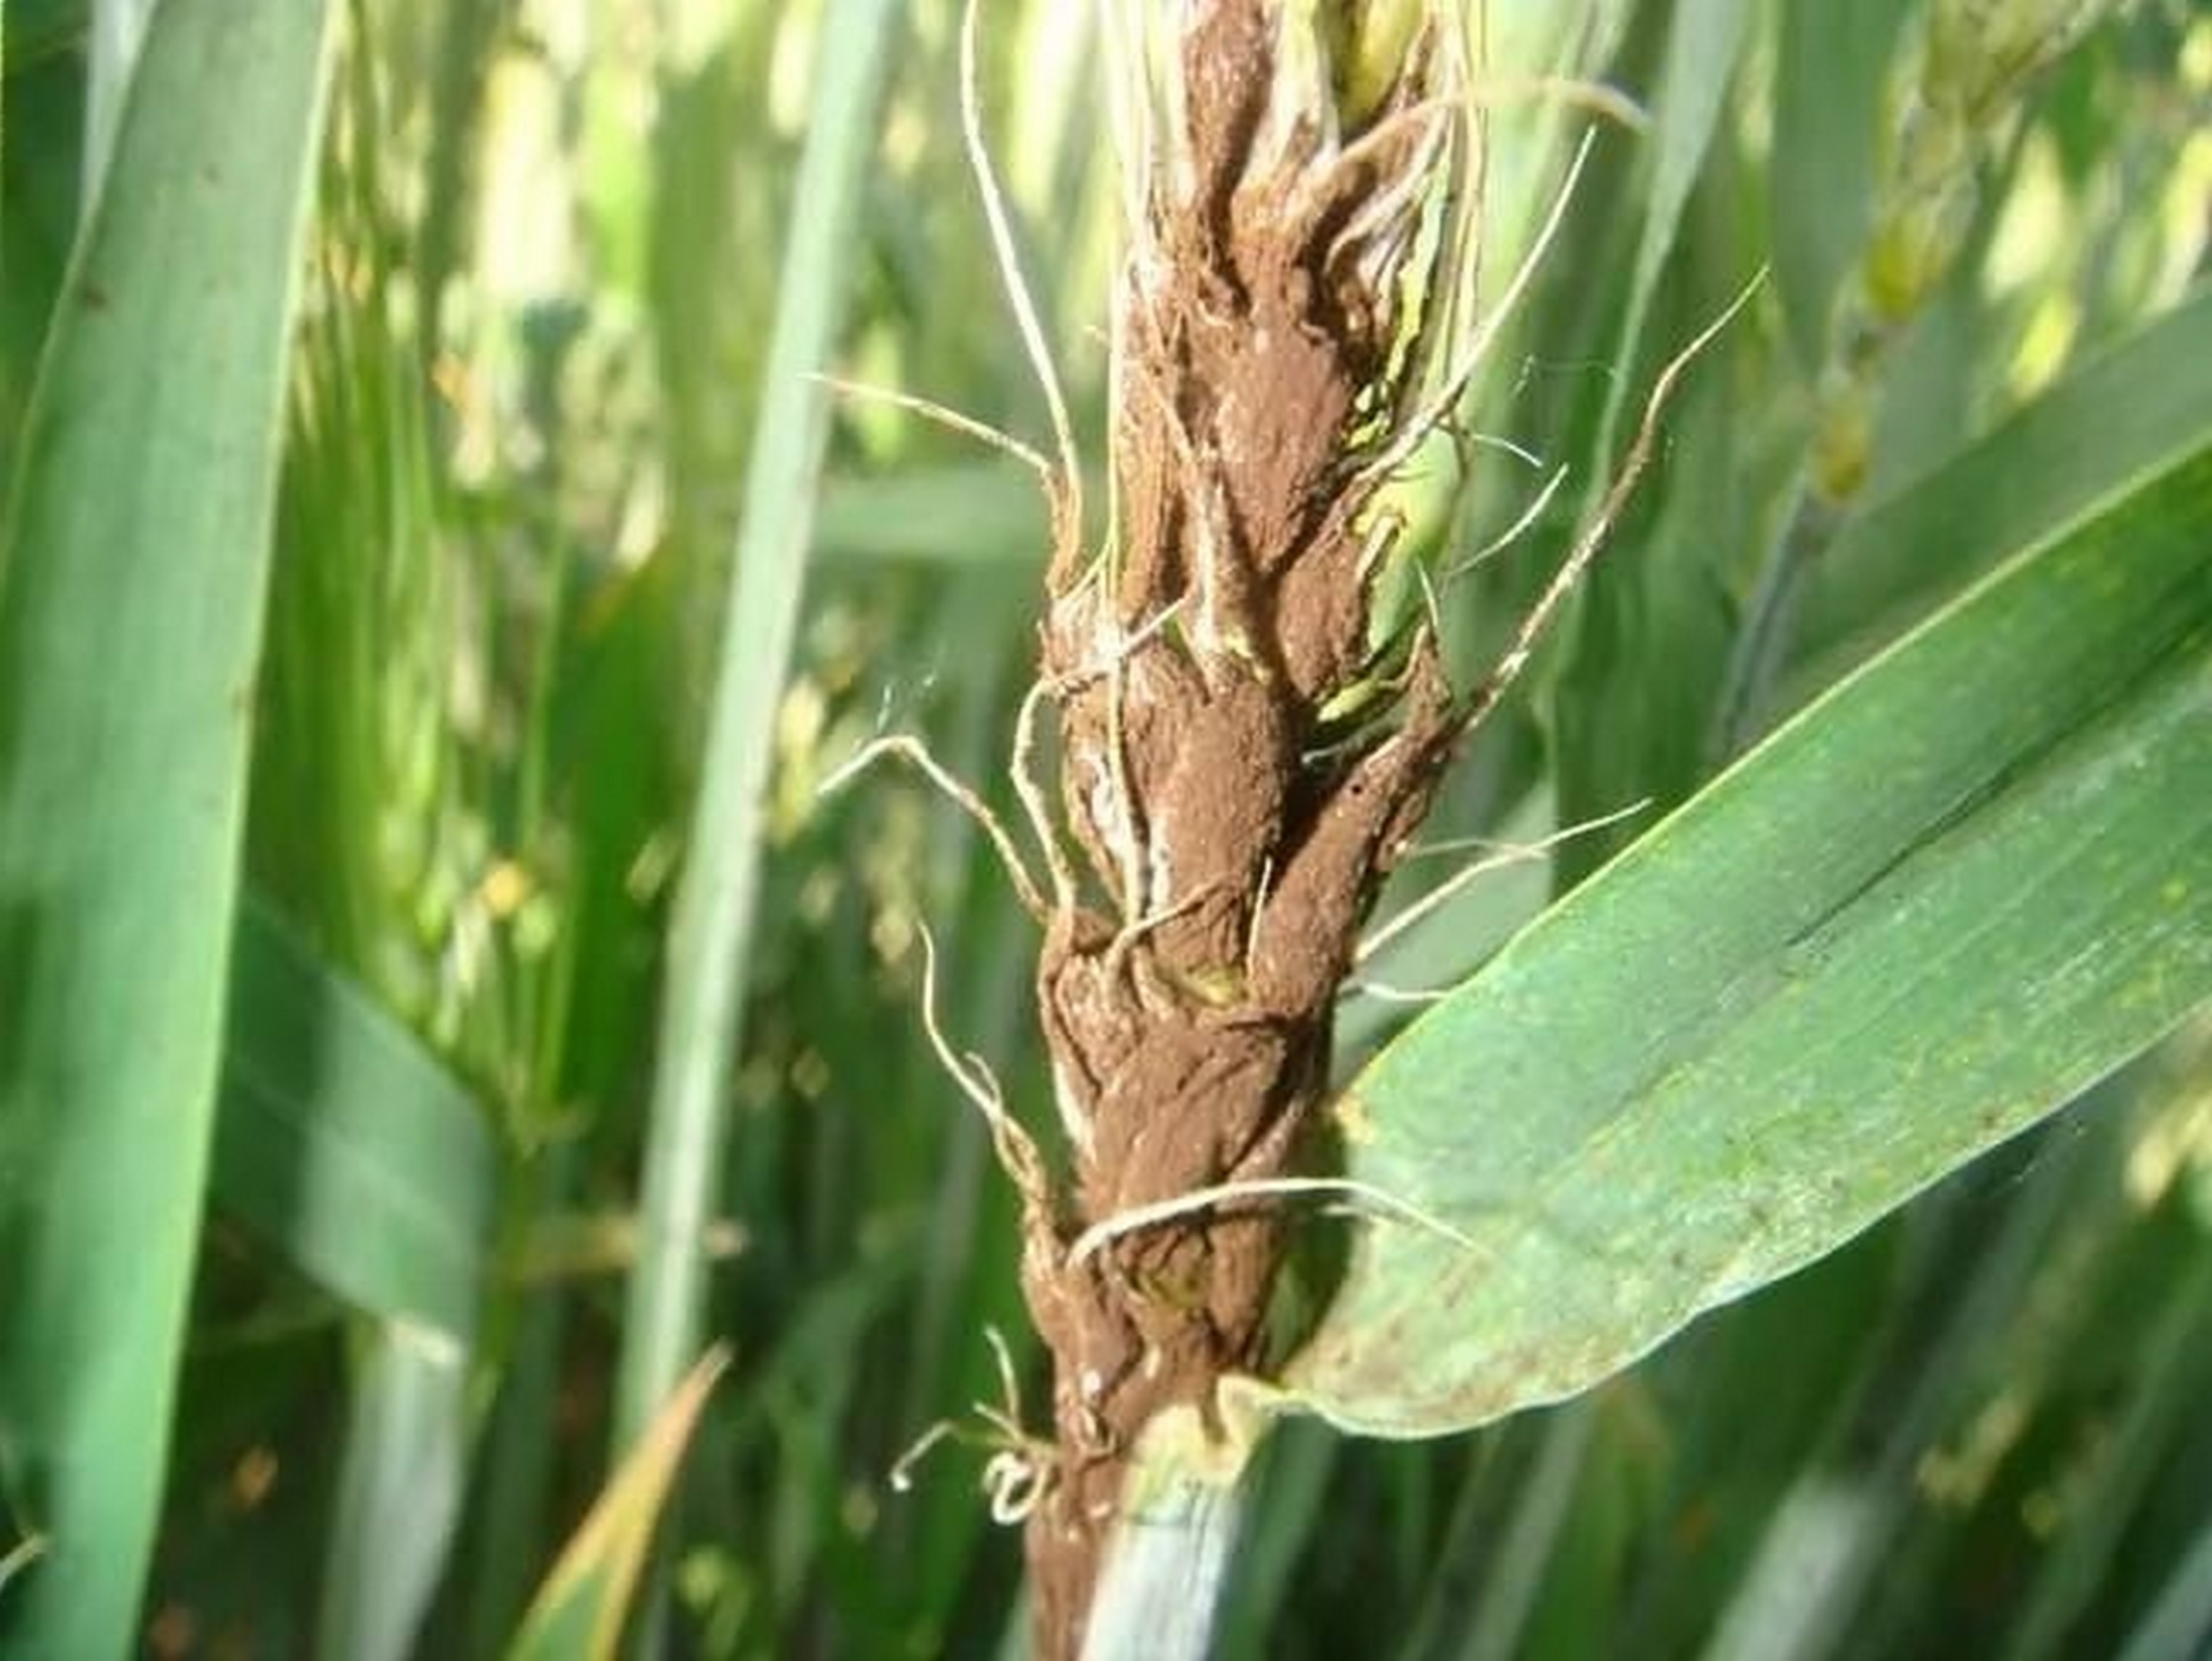Wheat Loose Smut: (987, 35, 1558, 1448)
